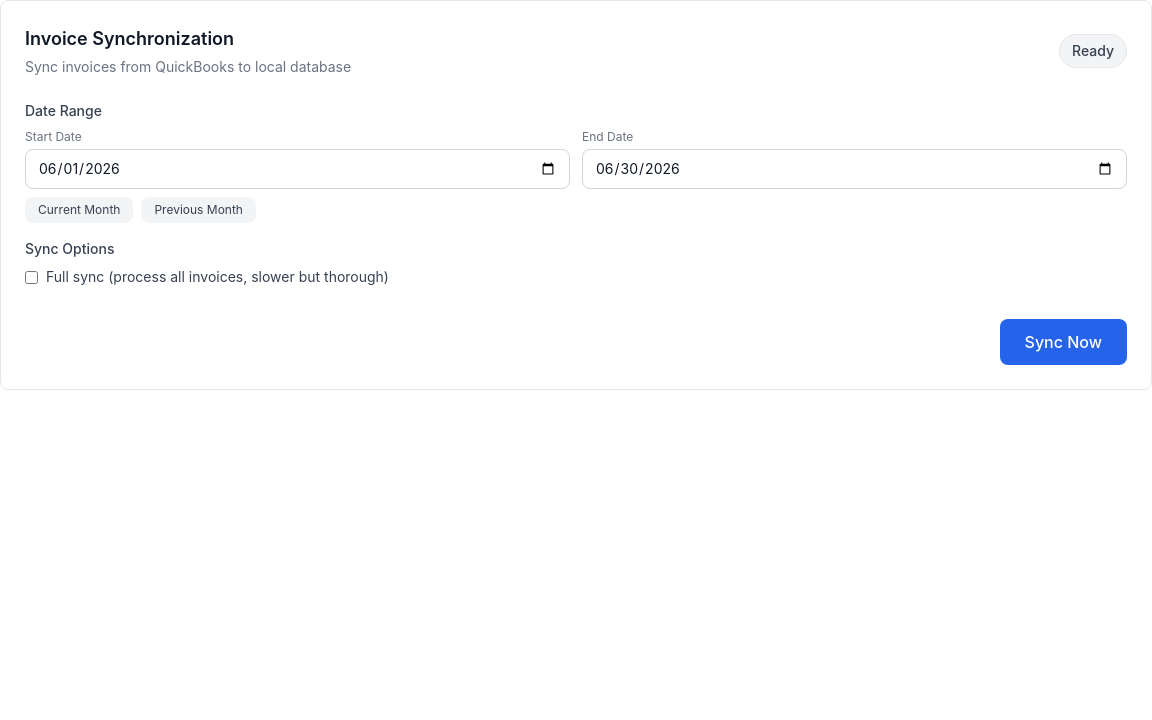
Test: QuickBooksSyncPanel - Sync Execution › should save sync results to localStorage
The width and height of the screenshot is (1152, 720).
Click the button "Sync Now" at (1063, 342), box [1000, 319, 1127, 365]
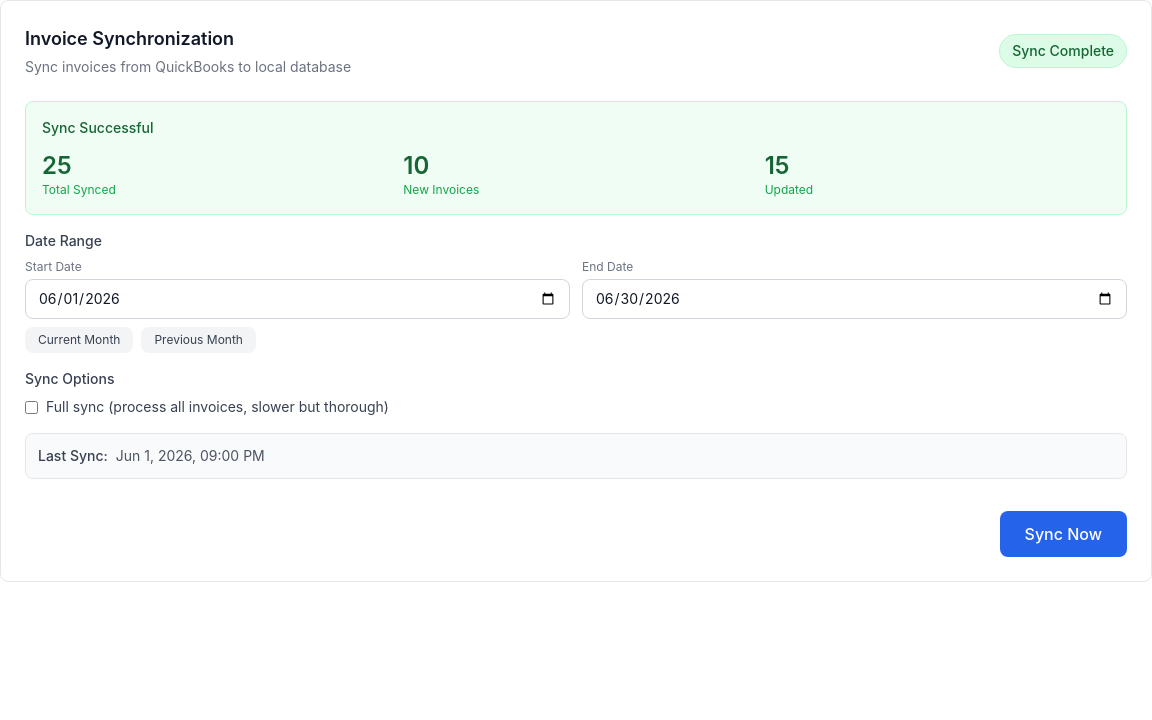
Expected: the text "Sync Complete" is shown, [999, 34, 1127, 68]
